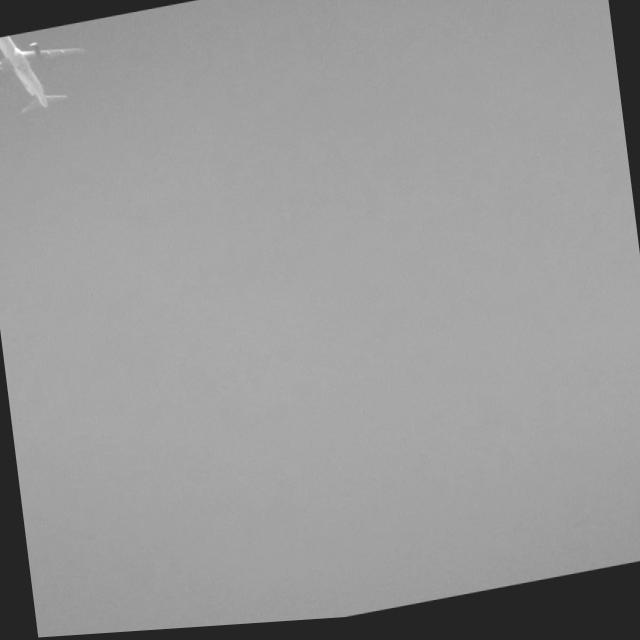aeroplane: (0, 21, 101, 127)
